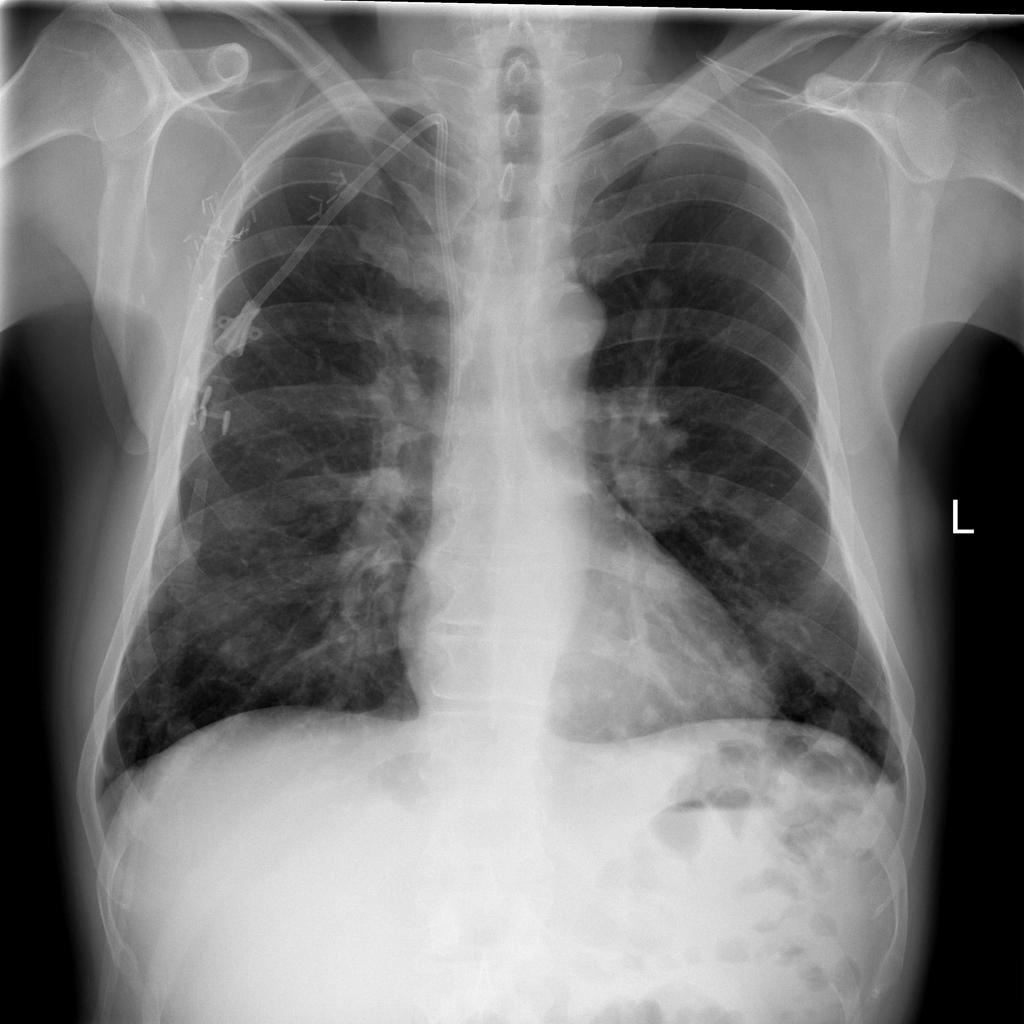nodule: (703, 653, 787, 721), (794, 694, 873, 758), (620, 692, 673, 741)
